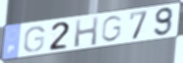2: (48, 21, 72, 52)
7: (128, 9, 150, 41)
9: (152, 6, 174, 38)
G: (99, 15, 124, 44), (22, 24, 47, 53)
H: (73, 15, 100, 49)
